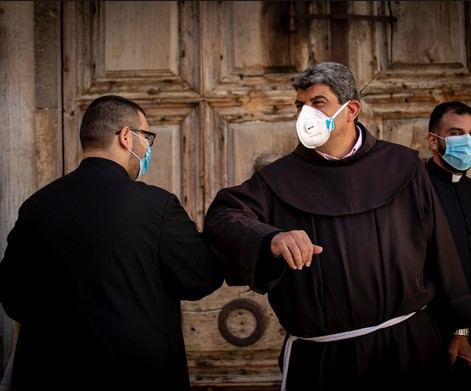face_with_mask: (82, 98, 152, 178), (297, 65, 360, 149), (425, 101, 466, 171)
